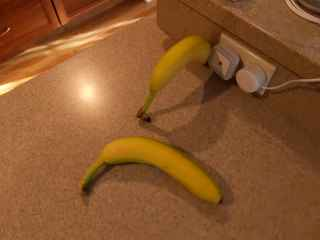banana: (78, 136, 226, 208), (135, 34, 215, 125)
